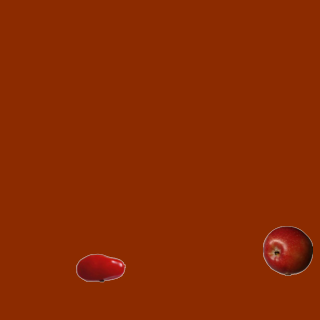Apple Braeburn: (262, 225, 312, 275)
Tomato 2: (75, 242, 125, 292)
